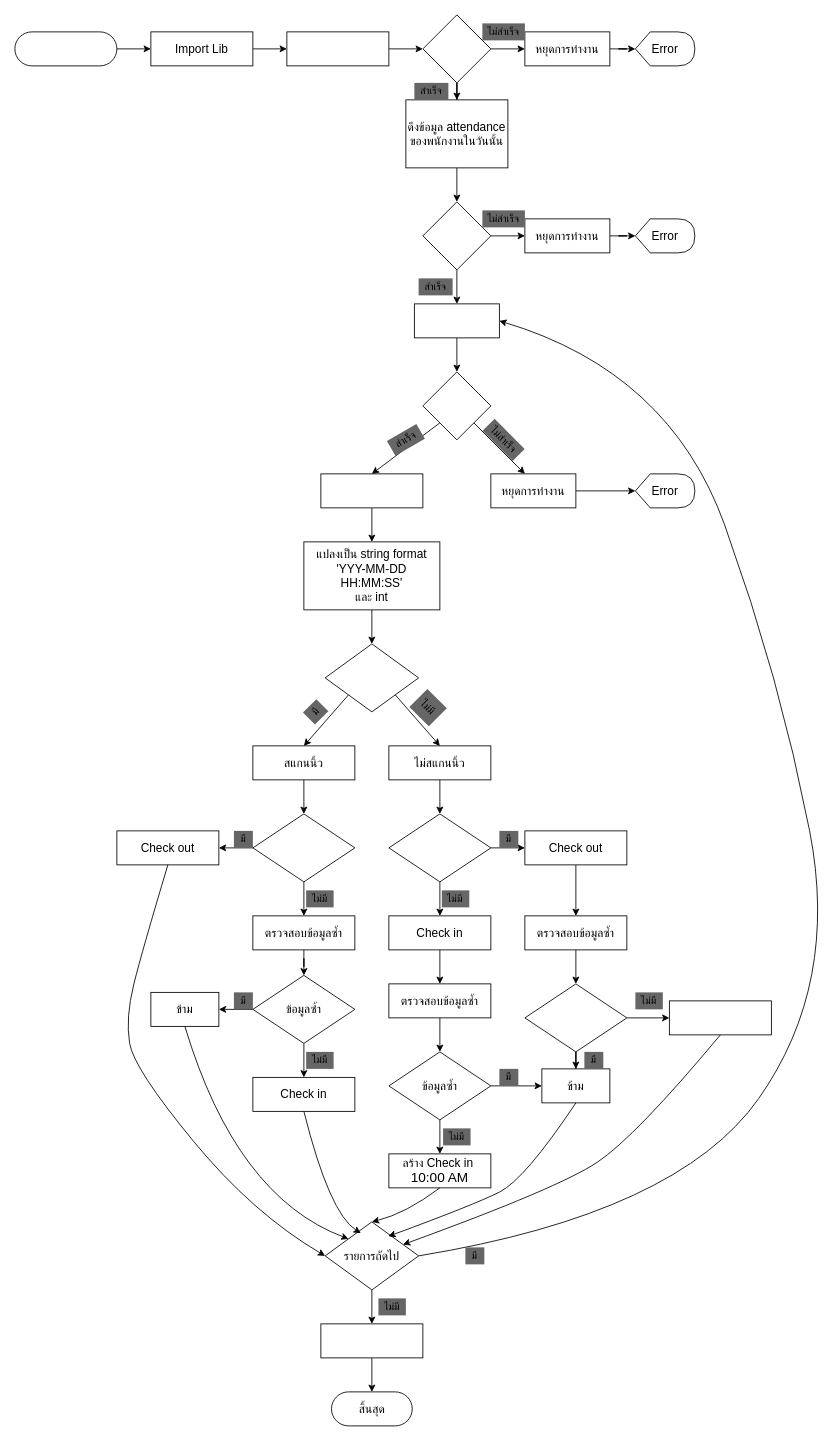
This 833x1441 diagram has some shape labels left out. The shapes that lost their labels are listed below. From the top down, each one's centre as x and y in pixels, then its label:
At (x=65, y=48): "เริ่มต้น".
At (x=337, y=48): "ประกาศตัวแปร".
At (x=456, y=48): "เชื่อมต่อ ZKTeco".
At (x=456, y=235): "เชื่อมต่อ ODOO".
At (x=456, y=320): "lopp Attendance".
At (x=456, y=405): "sync ข้อมูลพนักงาน".
At (x=371, y=490): "เวลาเข้า-ออกงาน UTC -7".
At (x=371, y=677): "ตรวจสอบการ scan".
At (x=303, y=847): "ตรวจสอบ Attendance".
At (x=439, y=847): "สร้าง Attendance check in".
At (x=575, y=1017): "ข้อมูซ้ำ".
At (x=720, y=1017): "สร้าง Check out 11:59 PM".
At (x=371, y=1340): "ตัดการเชื่อมต่อ".
